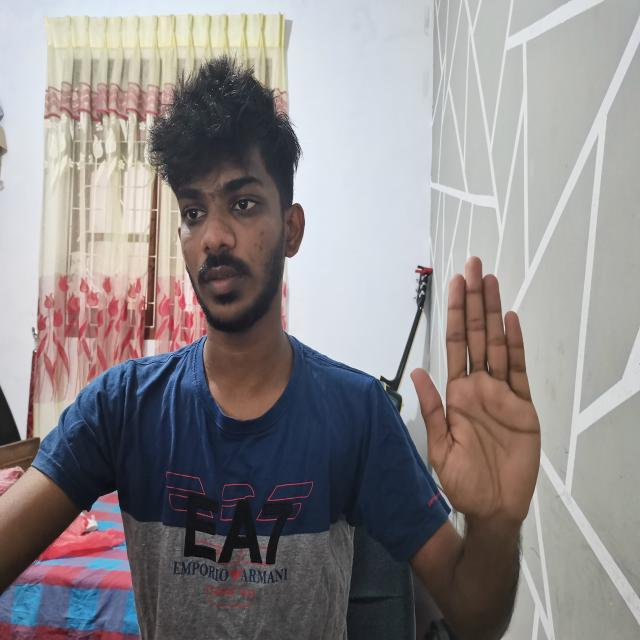Hello: (403, 252, 554, 530)
